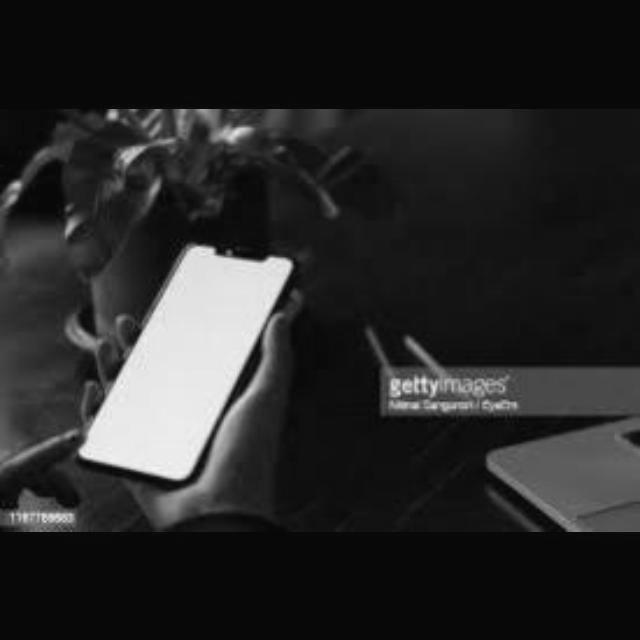fake: (69, 230, 291, 500)
